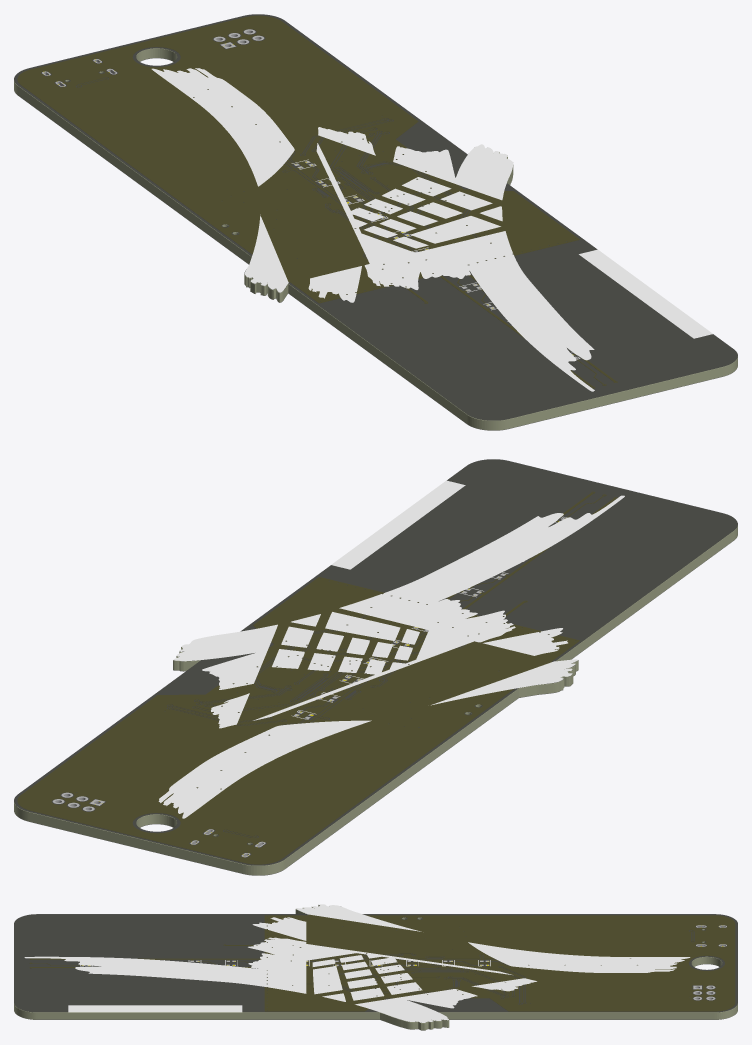
File: bornhack-2024-badge.glb
3 renders of one model, top to bottom at view 1: azimuth 30°, elevation 25°; view 2: azimuth 150°, elevation 25°; view 3: azimuth 270°, elevation 25°, orthographic. The views are drawn at different scales.
Visible parts, largest first — view 1: =>[0:1:1:7], =>[0:1:1:2], =>[0:1:1:9], =>[0:1:1:5]; view 2: =>[0:1:1:7], =>[0:1:1:2], =>[0:1:1:9], =>[0:1:1:5]; view 3: =>[0:1:1:7], =>[0:1:1:2], =>[0:1:1:9], =>[0:1:1:5].
Part boxes in pixels (x1,y1,x2,y2): =>[0:1:1:7]: (14,14,737,430); =>[0:1:1:2]: (18,16,615,387); =>[0:1:1:9]: (14,15,737,430); =>[0:1:1:5]: (151,68,712,391); =>[0:1:1:7]: (14,459,737,875); =>[0:1:1:2]: (18,492,614,863); =>[0:1:1:9]: (14,460,737,875); =>[0:1:1:5]: (158,480,624,818); =>[0:1:1:7]: (14,905,737,1030); =>[0:1:1:2]: (30,915,734,1010); =>[0:1:1:9]: (14,905,737,1030); =>[0:1:1:5]: (24,904,690,1022).
Size of the model in its own units: 0.0544 by 0.00166 by 0.14.
Materials: 4 (4 with a texture image).
